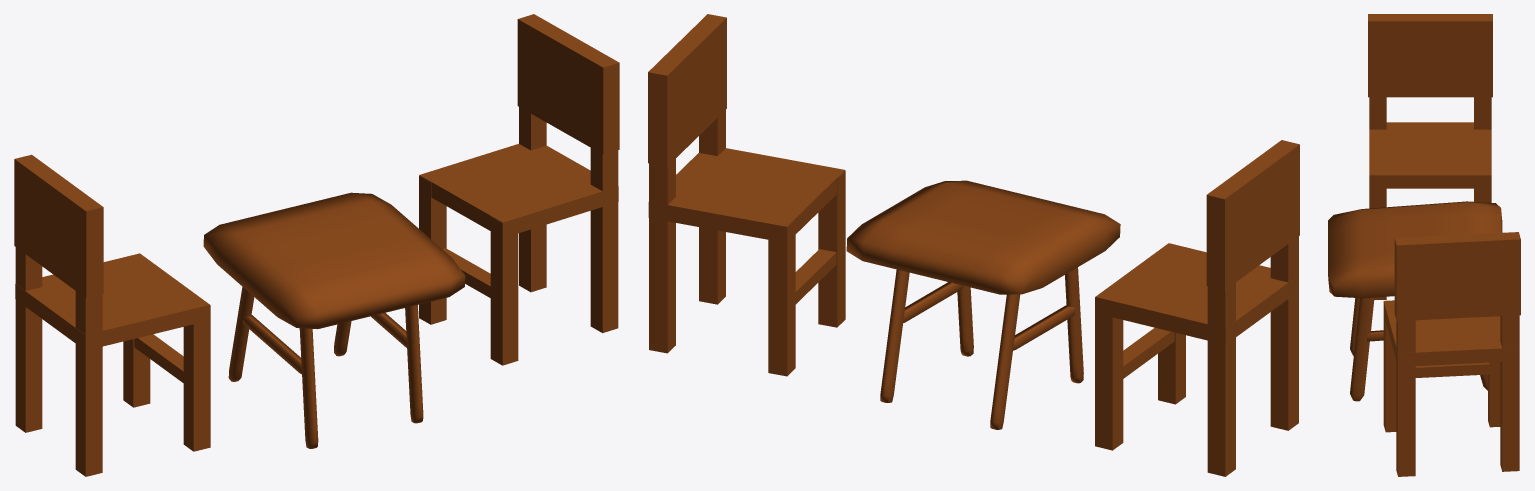
The model's file is Wooden.glb.
3 renders of one model, left to right at view 1: azimuth 30°, elevation 25°; view 2: azimuth 150°, elevation 25°; view 3: azimuth 270°, elevation 25°, orthographic. The views are drawn at different scales.
Visible parts, largest first — view 1: Cube.001, Cube.006, Cube.005; view 2: Cube.006, Cube.001, Cube.005; view 3: Cube.001, Cube.006, Cube.005.
Part boxes in pixels (left/top/right/bottom): Cube.001: left=419, top=14, right=619, bottom=365; Cube.006: left=14, top=154, right=210, bottom=476; Cube.005: left=203, top=192, right=465, bottom=448; Cube.006: left=1095, top=140, right=1299, bottom=476; Cube.001: left=648, top=14, right=845, bottom=376; Cube.005: left=846, top=180, right=1120, bottom=429; Cube.001: left=1383, top=232, right=1520, bottom=476; Cube.006: left=1368, top=14, right=1492, bottom=299; Cube.005: left=1328, top=201, right=1502, bottom=401.
Bounding box in the file's own units: 7.52 × 3.75 × 2.62.
